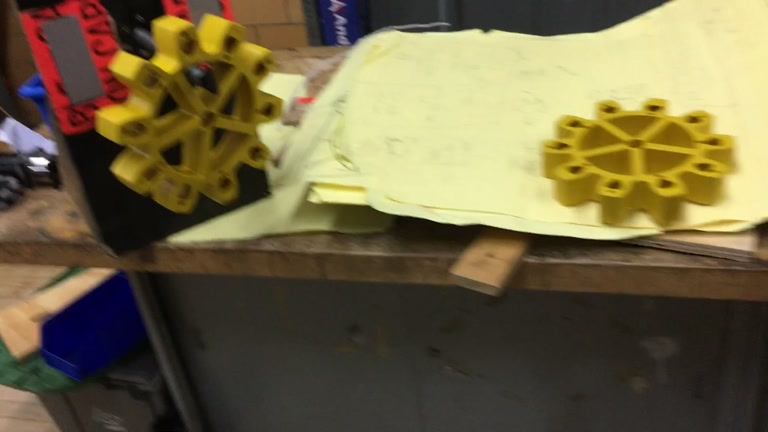gear: (93, 12, 284, 213), (539, 96, 736, 228)
